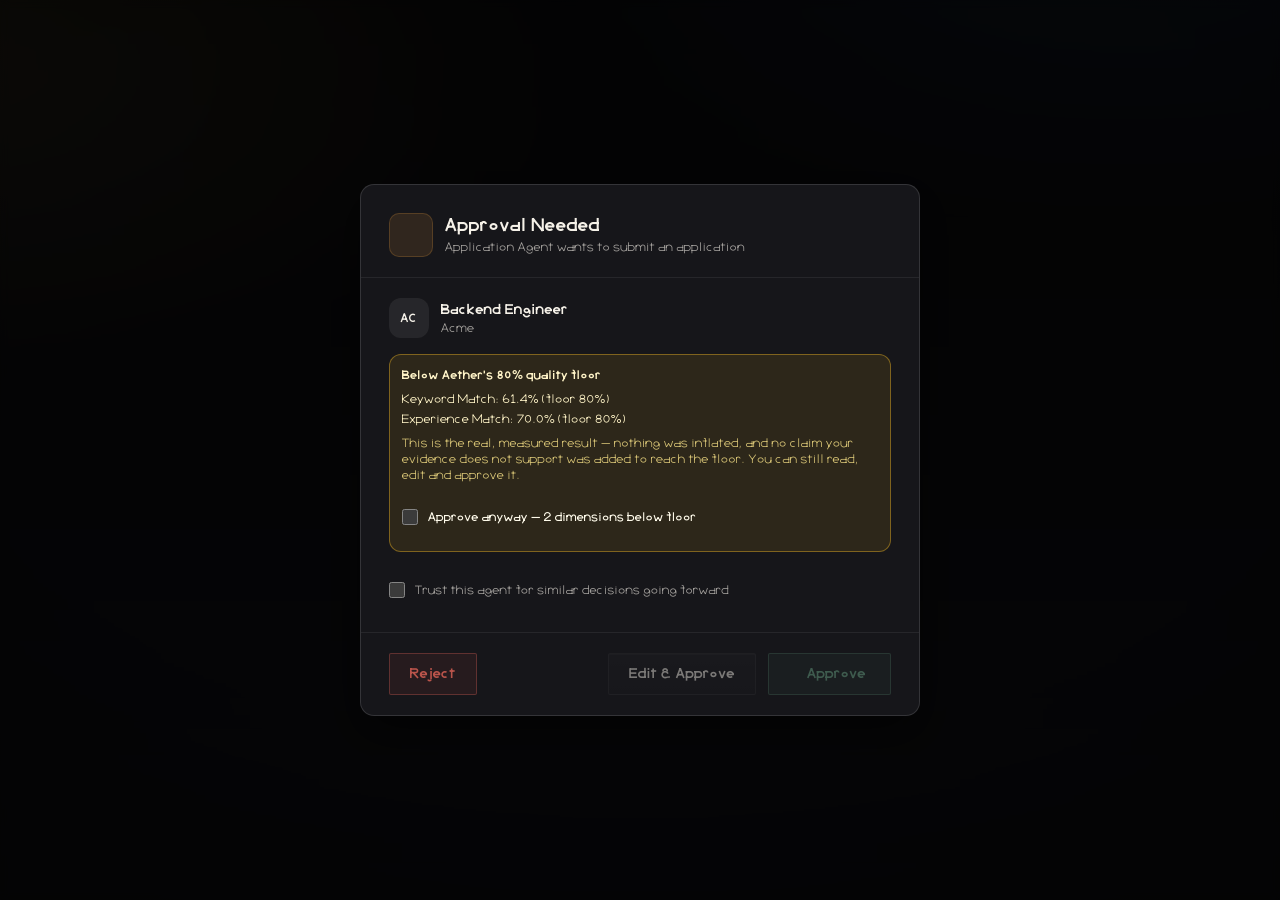
Test: below-floor approvals › blocks approval until the user acknowledges, with the exact label
Expected: the button with test id "modal-approve-btn" is disabled, [768,653,891,695]
Expected: the label with test id "below-floor-ack-checkbox" reads "Approve anyway — 2 dimensions below floor", [428,511,696,523]
Step 1. Click the checkbox with test id "below-floor-ack-checkbox" → (410, 517), box [402,509,418,525]
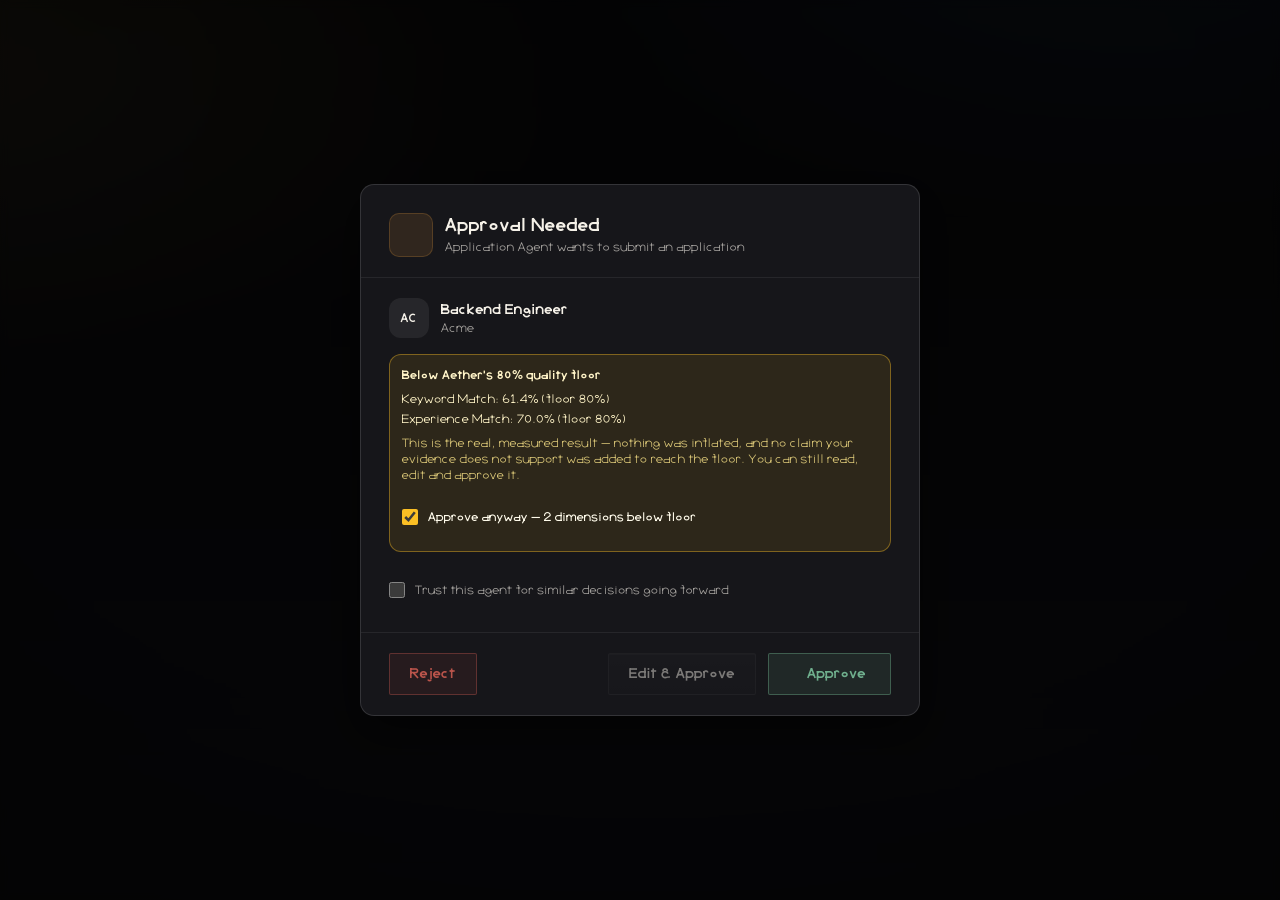
Result: the button with test id "modal-approve-btn" is enabled at [768,653,891,695]
